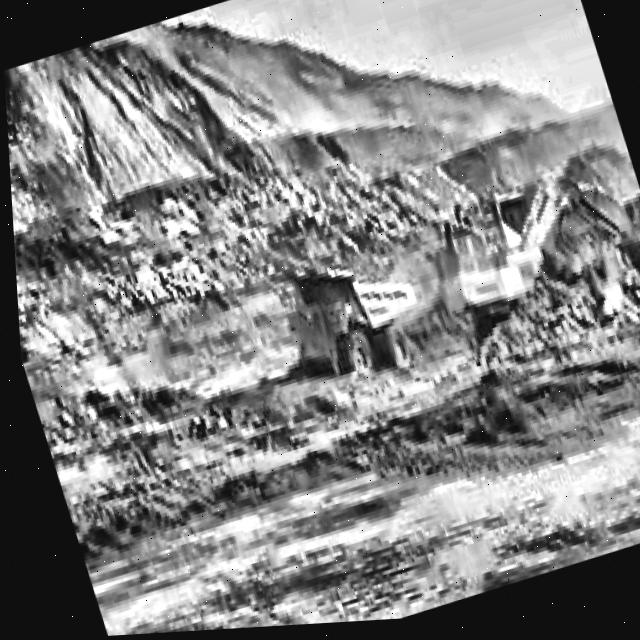dump_truck: (417, 140, 640, 357), (264, 225, 431, 410)
